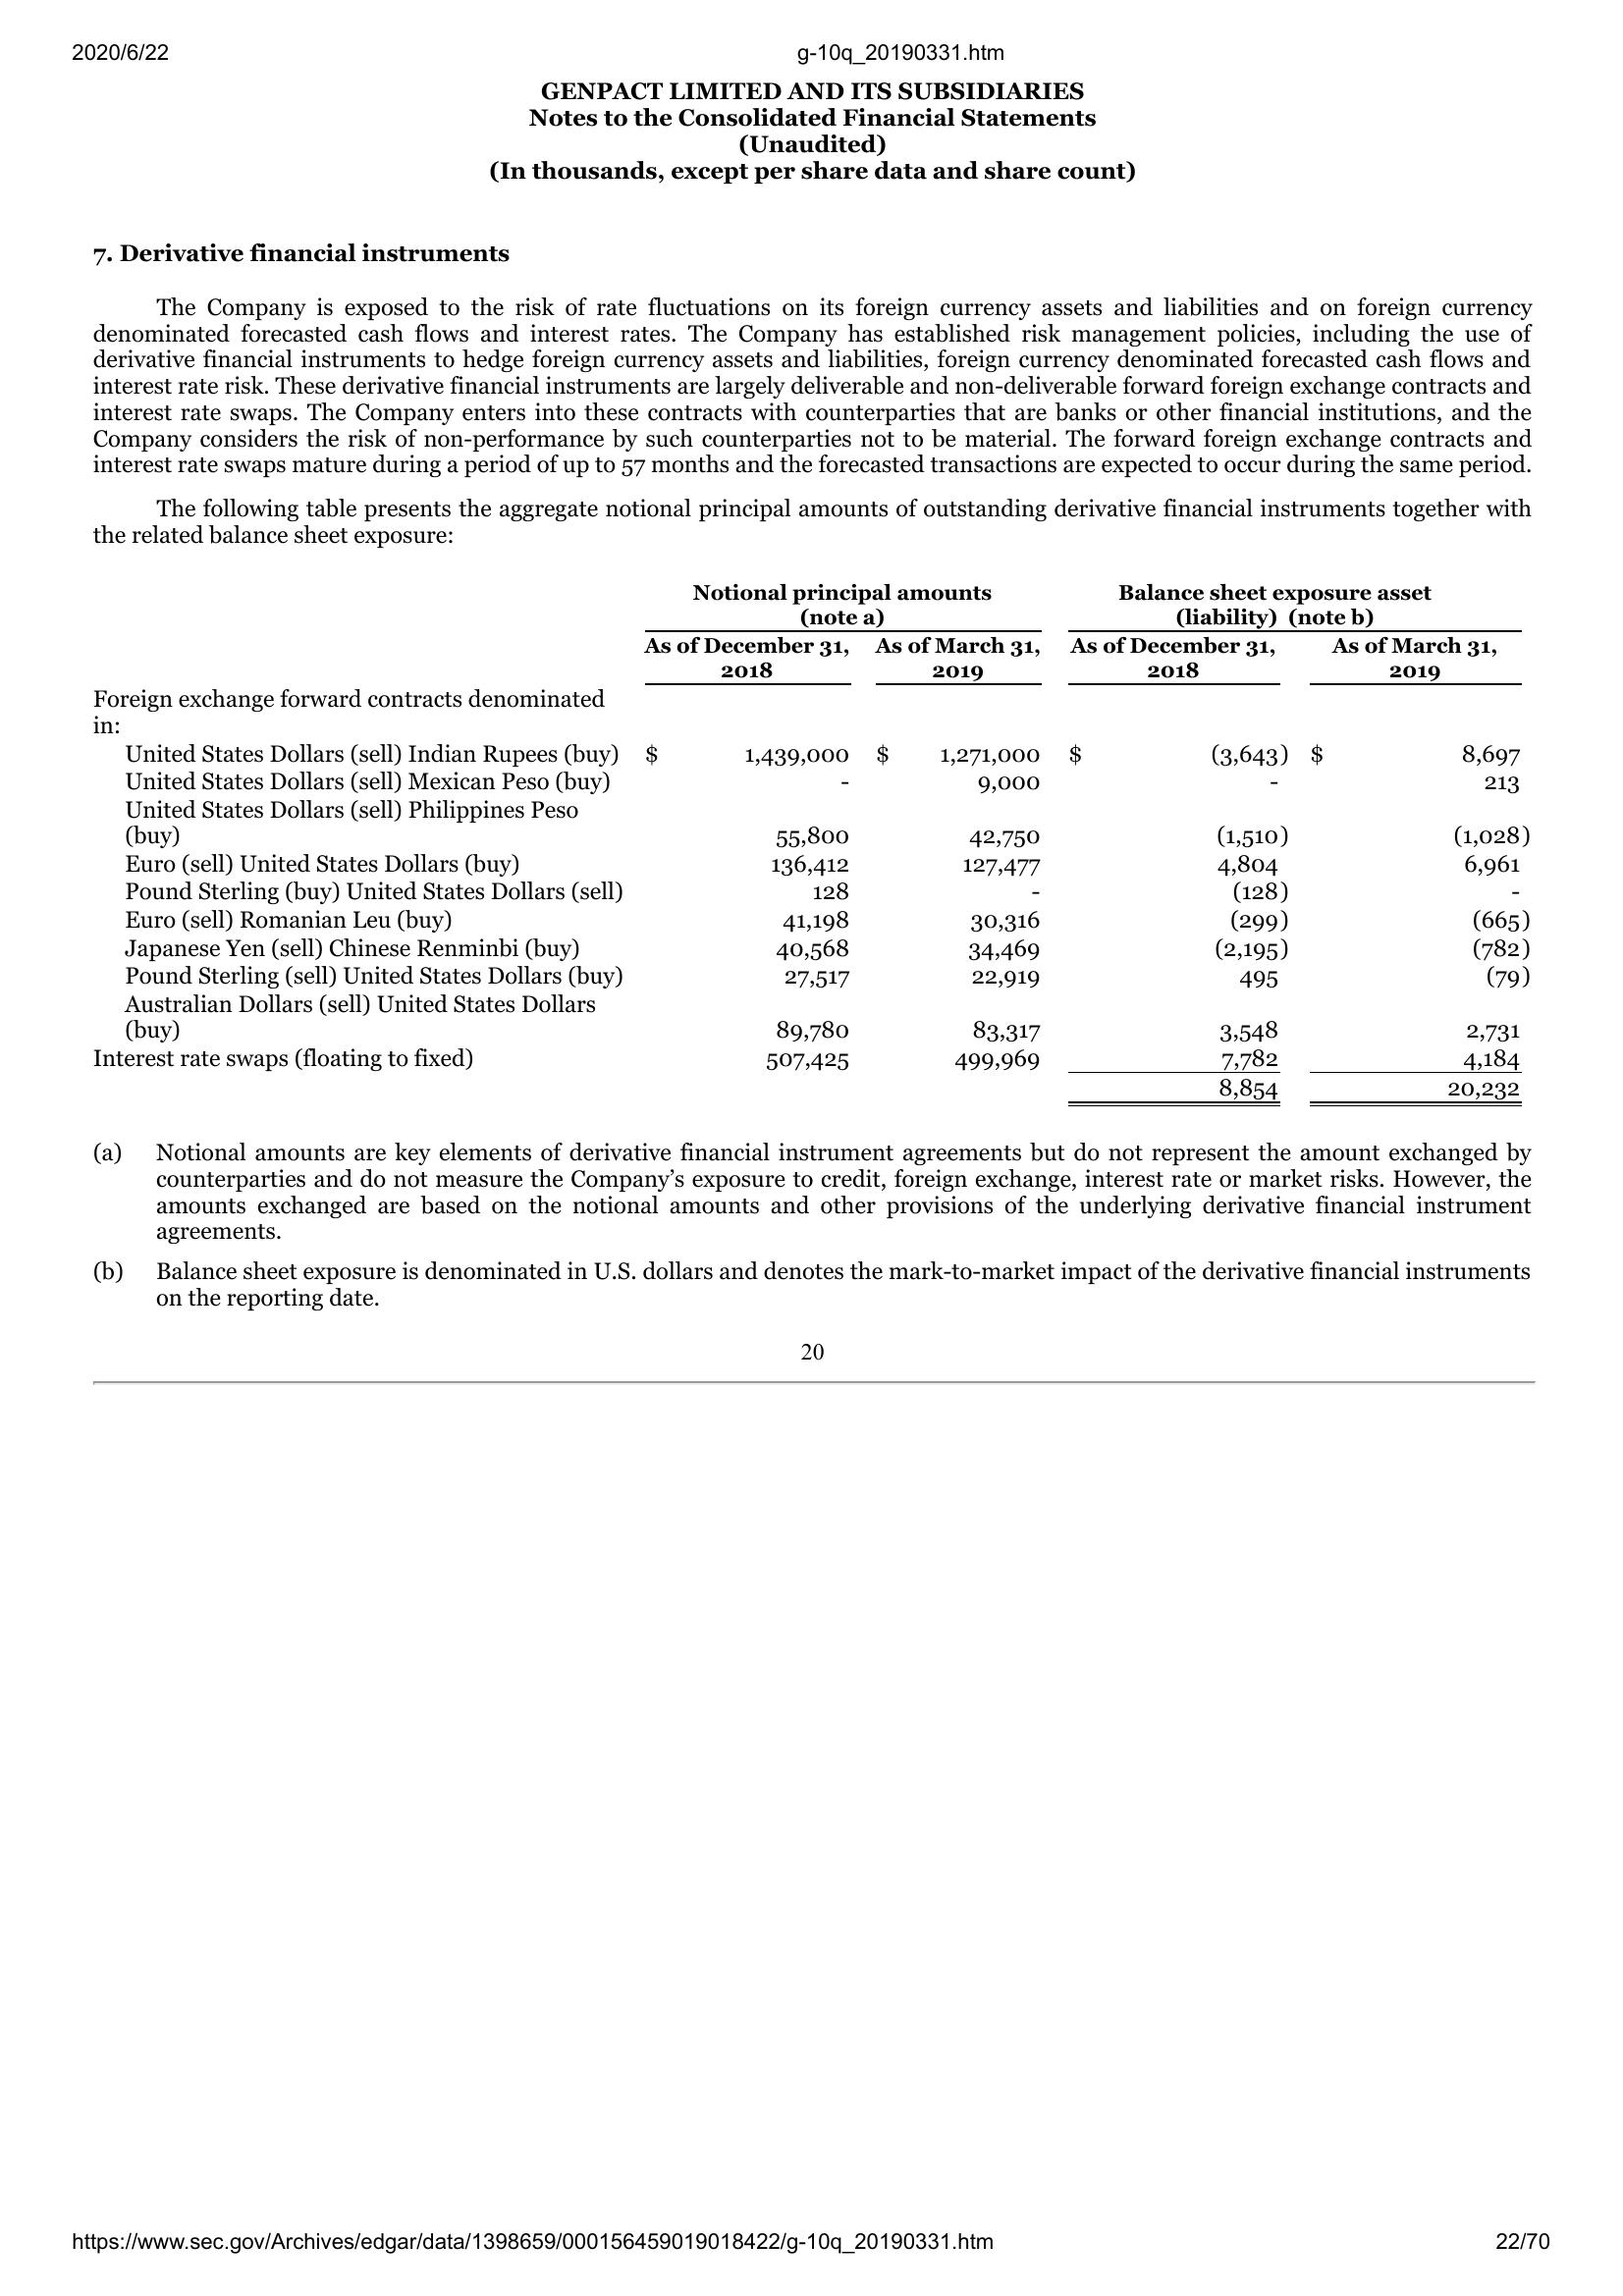table: (83, 565, 1533, 1116)
